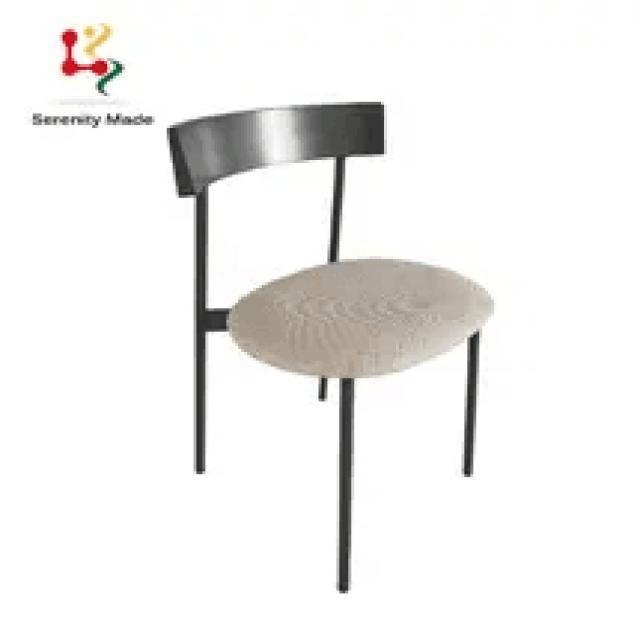chair: (162, 94, 502, 597), (174, 94, 491, 371)
